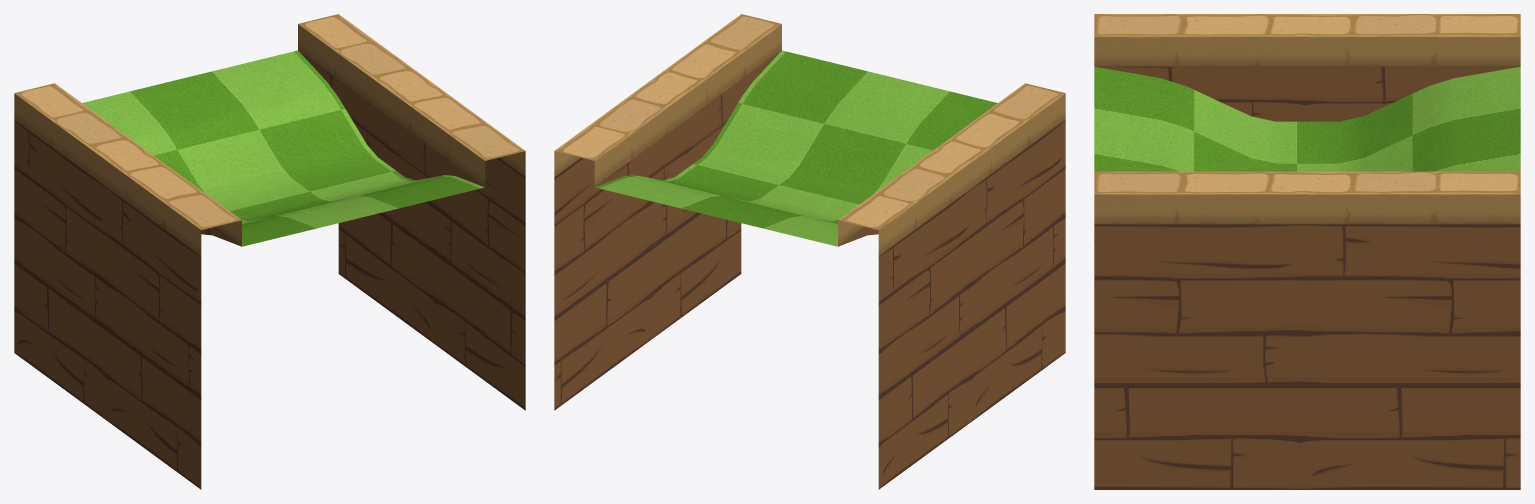
Rendered from tile04.FBX.
The picture shows the model from 3 angles, left to right: view 1: azimuth 30°, elevation 25°; view 2: azimuth 150°, elevation 25°; view 3: azimuth 270°, elevation 25°; orthographic projection. The views are drawn at different scales.
Visible parts, largest first — view 1: tile04_walls, tile04_floor; view 2: tile04_walls, tile04_floor; view 3: tile04_walls, tile04_floor.
Boxes of the visible parts, <box> form: tile04_walls: <box>14,14,525,489</box>; tile04_floor: <box>82,50,484,246</box>; tile04_walls: <box>554,14,1065,489</box>; tile04_floor: <box>595,50,997,246</box>; tile04_walls: <box>1094,14,1520,489</box>; tile04_floor: <box>1094,66,1520,171</box>.
Bounding box in the file's own units: 1280 × 980 × 1280.
